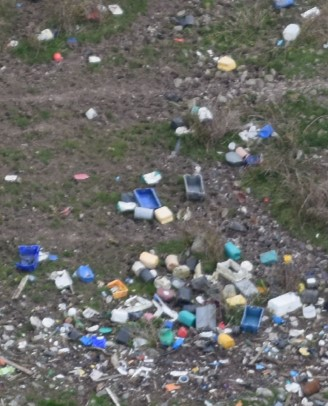scattered_barrel: (2, 1, 128, 188), (171, 1, 328, 79)
together_barrel: (71, 234, 327, 355), (1, 239, 132, 406), (138, 344, 328, 405), (162, 102, 282, 170), (112, 165, 209, 228)
